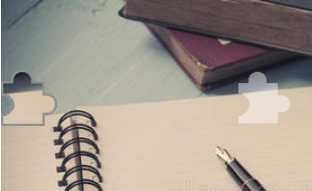target: (230, 65, 296, 130)
